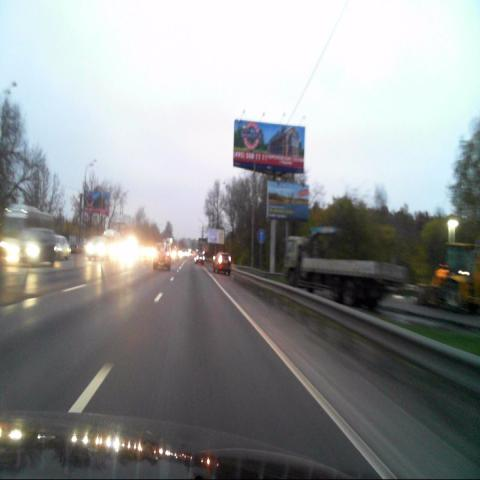4_1_1: (257, 228, 266, 243)
